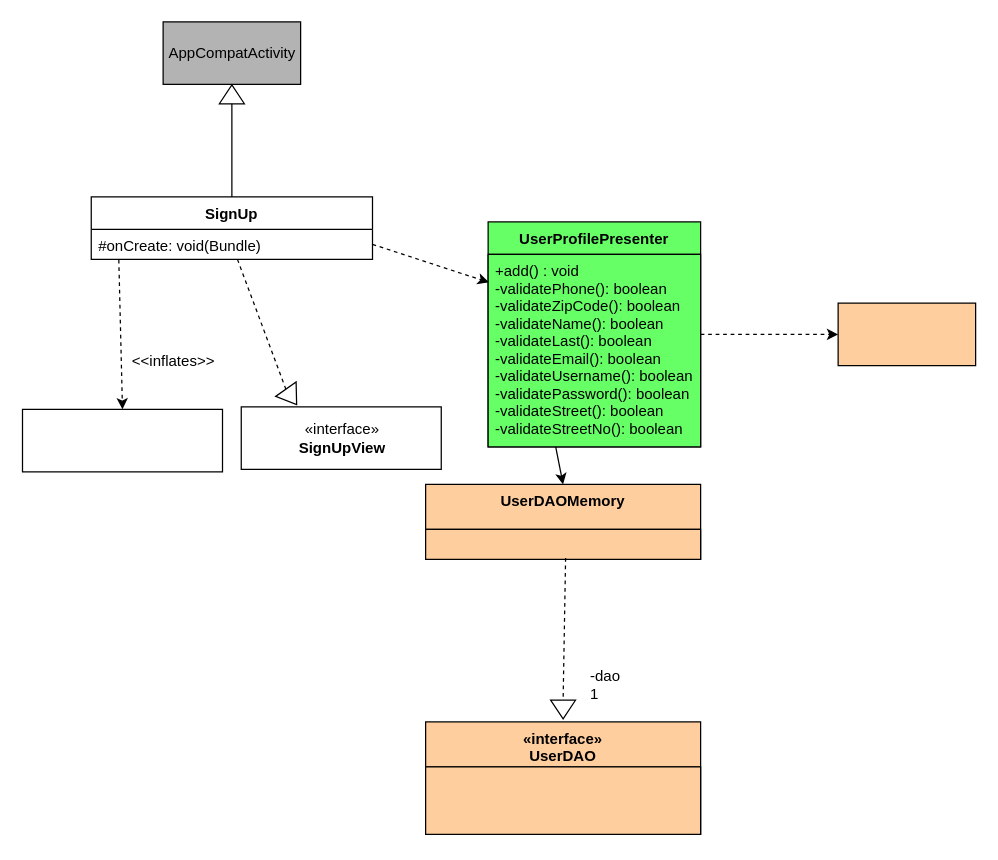
Image size: 998x860. Some labels were removed from this diagram. Here are the shapes that lost their labels. From the top down, the centre of each, then its label:
At pixel 906 334: "User".
At pixel 121 440: "«layout» activity_sign_up.xml".
At pixel 562 800: "+ save: void(User) + find: User(String)".
